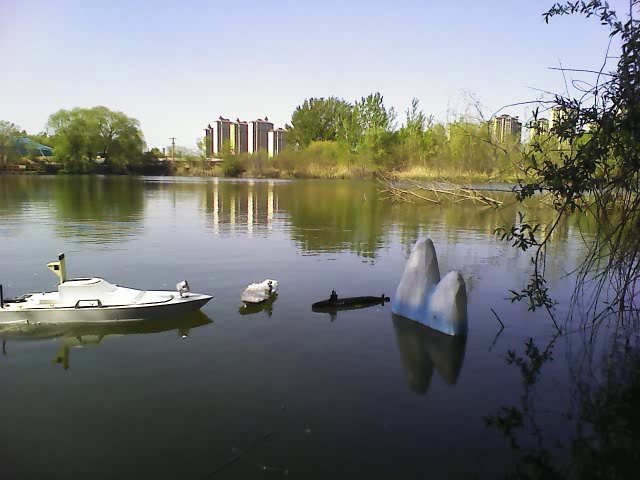aircraft_carrier: (241, 277, 281, 310)
boat: (4, 272, 218, 332)
iceberg: (390, 233, 468, 343)
submarine: (313, 287, 387, 311)
